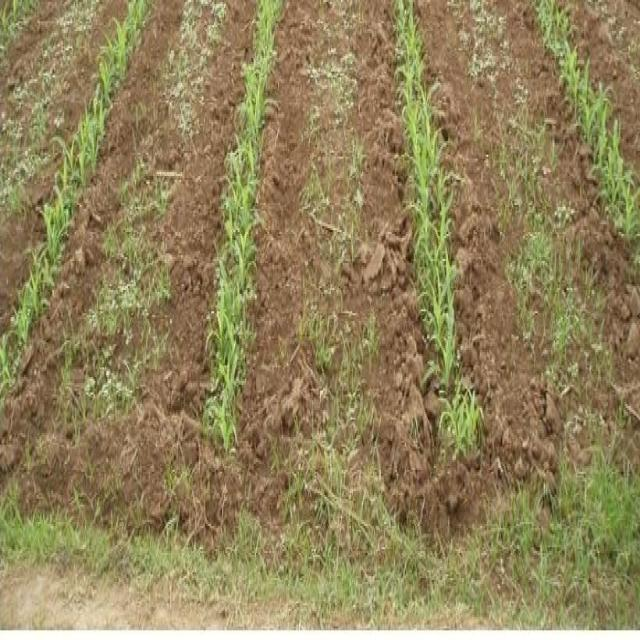row: (421, 0, 640, 486), (239, 0, 444, 478), (1, 0, 122, 337), (561, 1, 640, 184)
